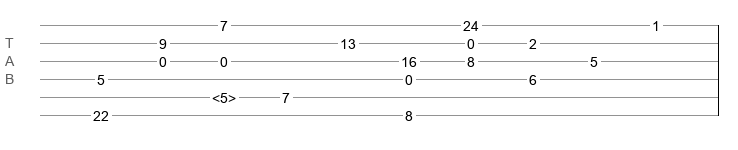0: (159, 54, 167, 64), (220, 54, 228, 64), (405, 72, 413, 82), (467, 36, 475, 46)
1: (652, 18, 660, 28)
13: (340, 36, 356, 46)
16: (401, 54, 417, 64)
2: (529, 36, 537, 46)
22: (93, 108, 109, 118)
24: (463, 18, 479, 28)
5: (97, 72, 105, 82), (590, 54, 598, 64)
6: (529, 72, 537, 82)
7: (220, 18, 228, 28), (282, 90, 290, 100)
8: (405, 108, 413, 118), (467, 54, 475, 64)
9: (159, 36, 167, 46)
harmonic: (212, 90, 236, 100)
